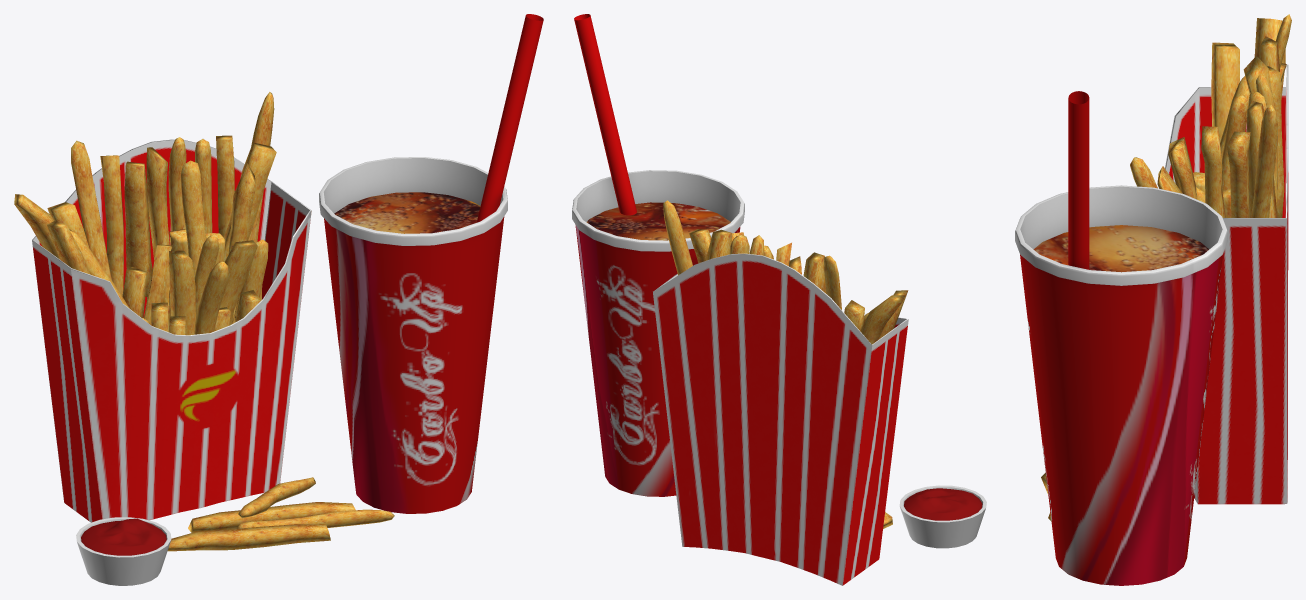
Rendered from french-fries---free-bef538.glb.
The picture shows the model from 3 angles, left to right: view 1: azimuth 30°, elevation 25°; view 2: azimuth 150°, elevation 25°; view 3: azimuth 270°, elevation 25°; orthographic projection. The views are drawn at different scales.
Parts seen in each view (by area): view 1: PropMesh; view 2: PropMesh; view 3: PropMesh.
Boxes of the visible parts, x1=… form: PropMesh: x1=14, y1=14, x2=543, y2=585; PropMesh: x1=572, y1=14, x2=986, y2=585; PropMesh: x1=1015, y1=14, x2=1291, y2=585.
Size of the model in its own units: 2.25 by 2.2 by 1.06.
1 material, 1 textured.
